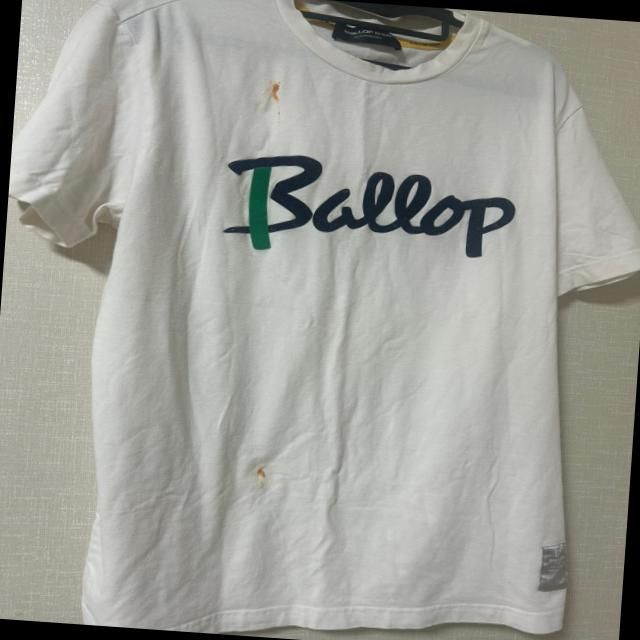stain: (264, 79, 288, 102), (256, 462, 268, 478)
